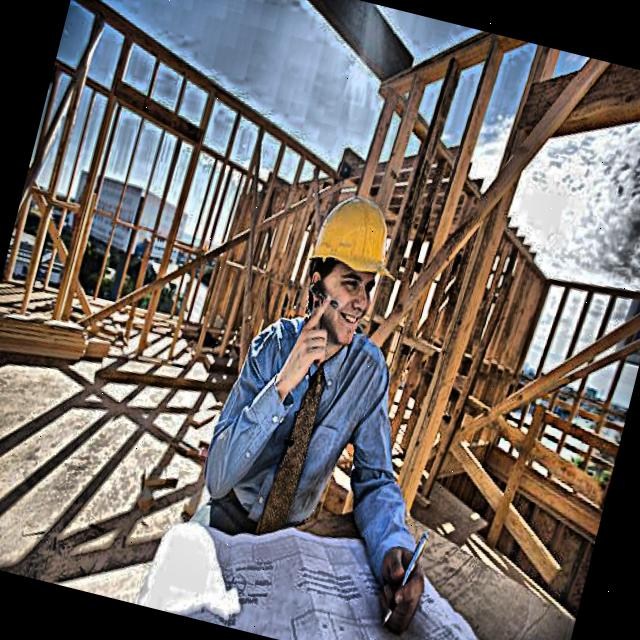helmet: (288, 173, 409, 347)
